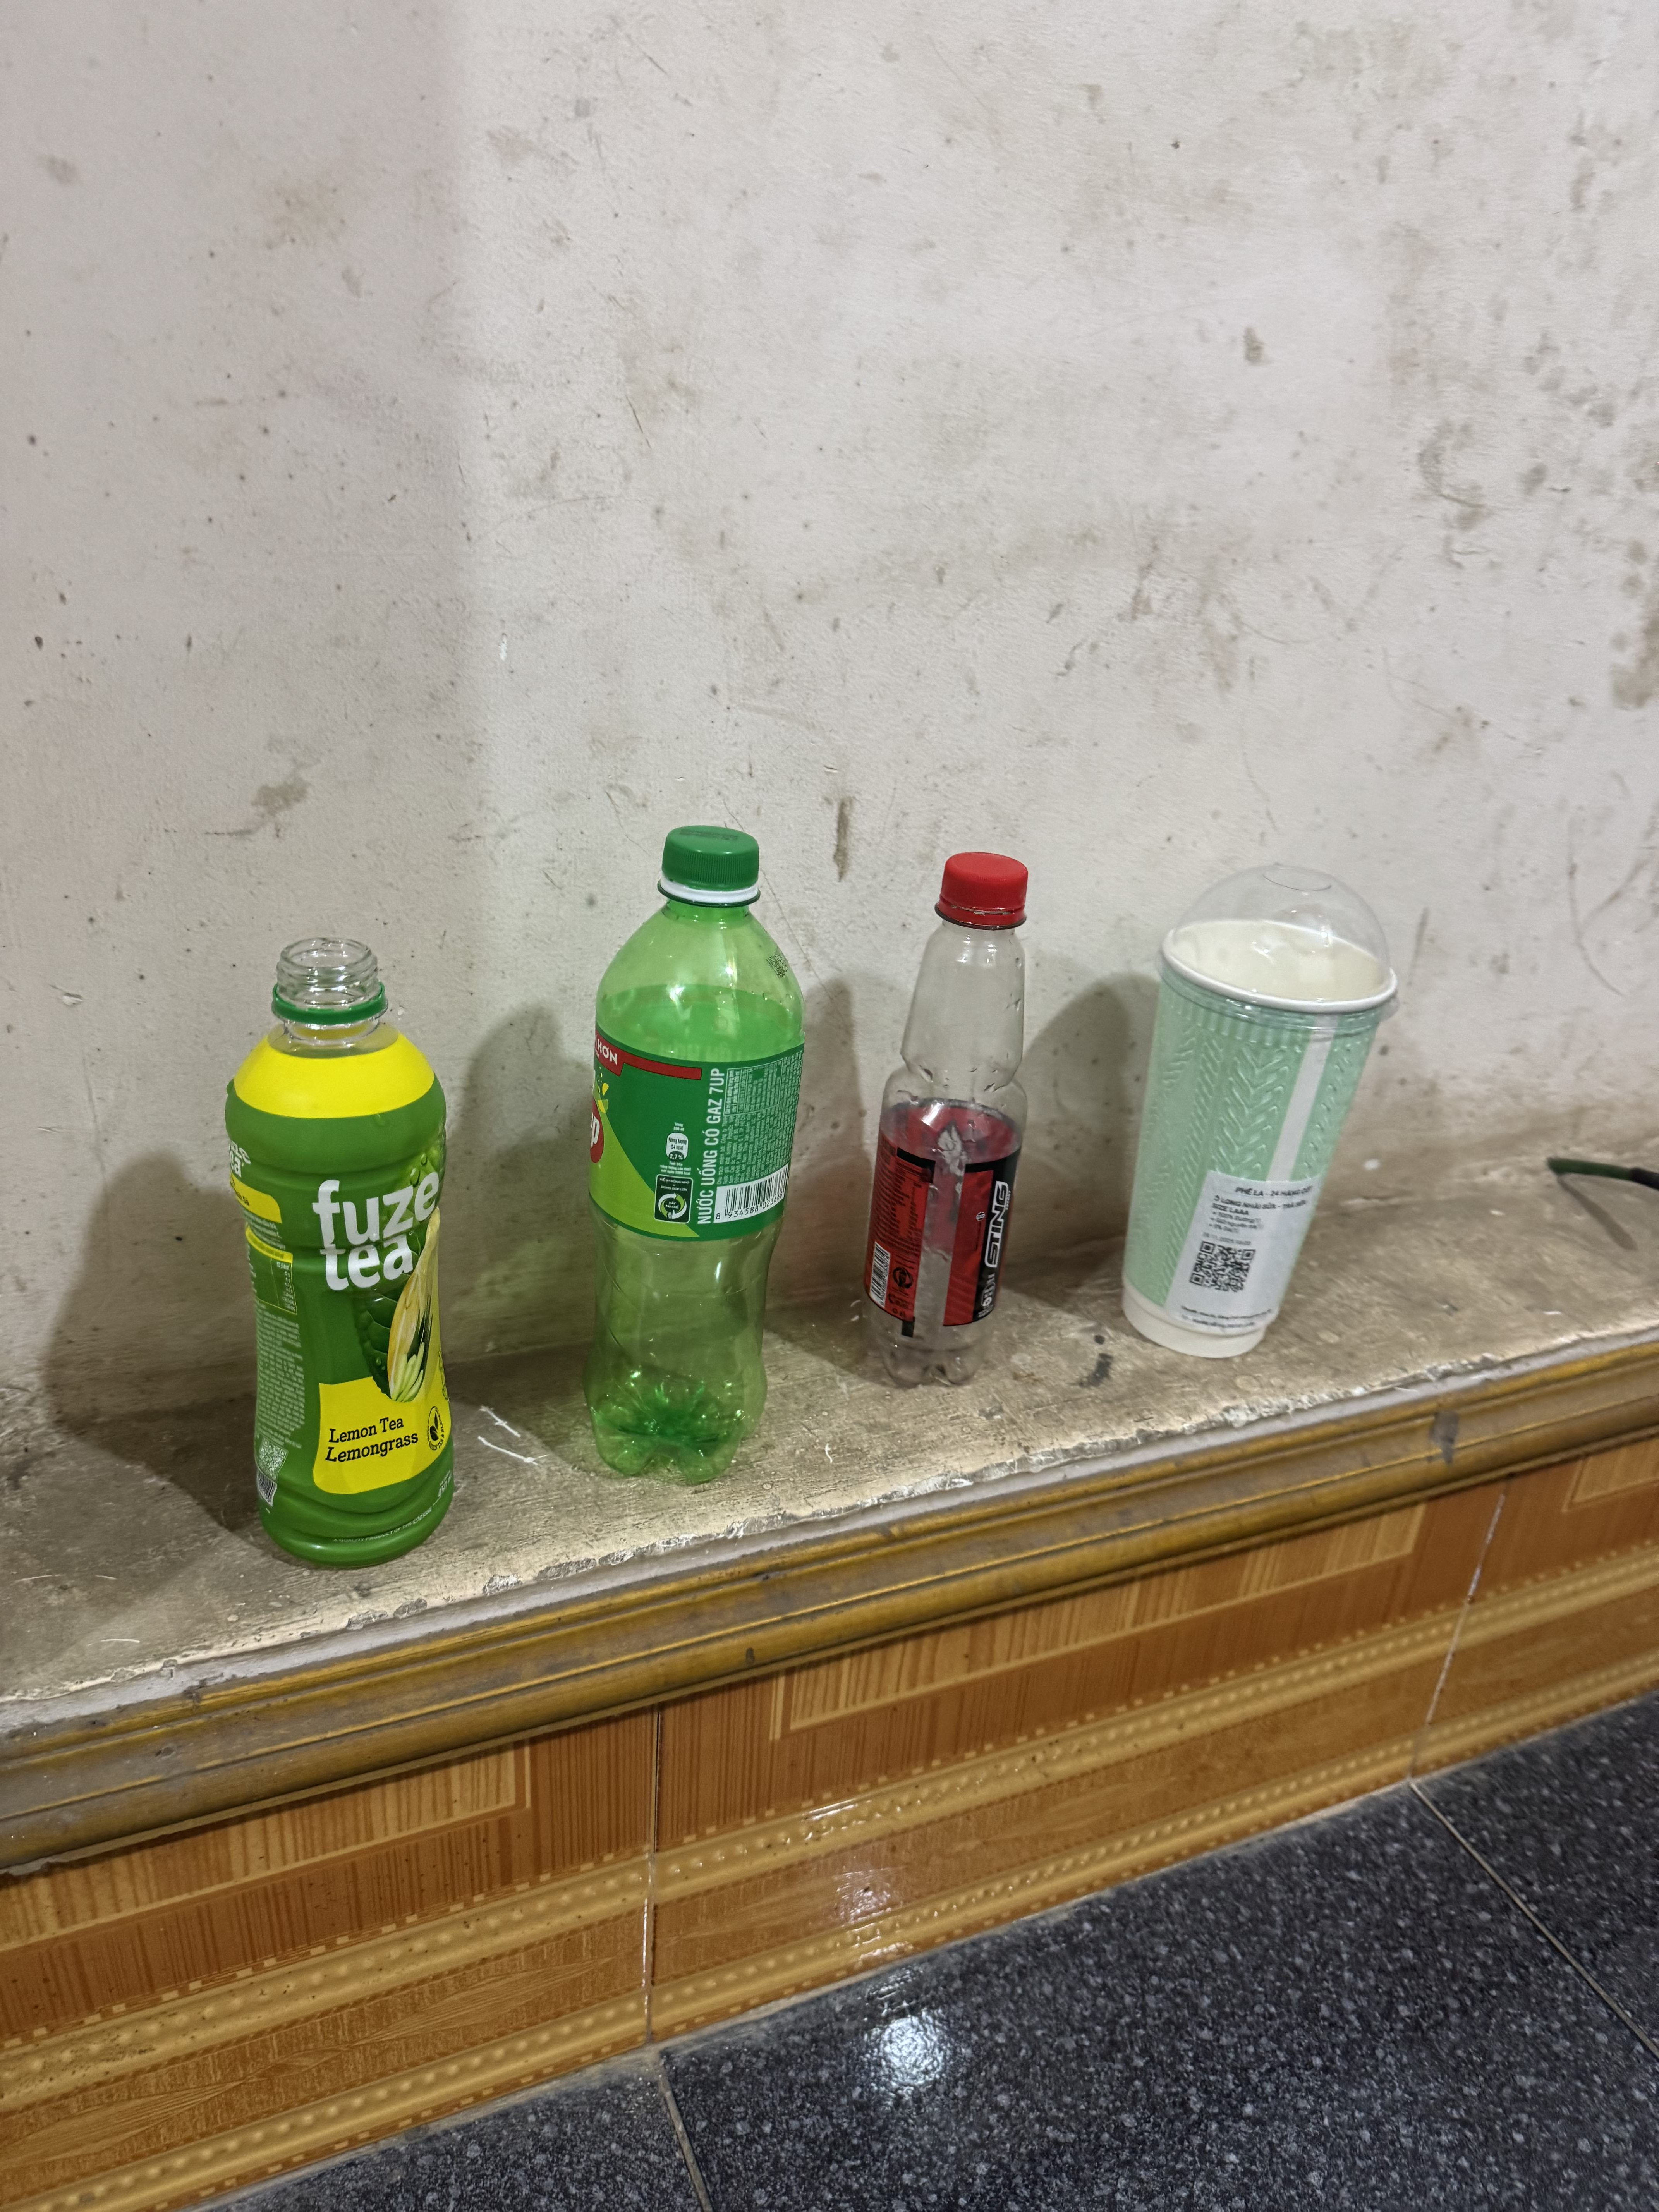2: (1086, 840, 1427, 1400)
bottle: (535, 808, 835, 1510), (200, 916, 486, 1590), (817, 838, 1072, 1428)
